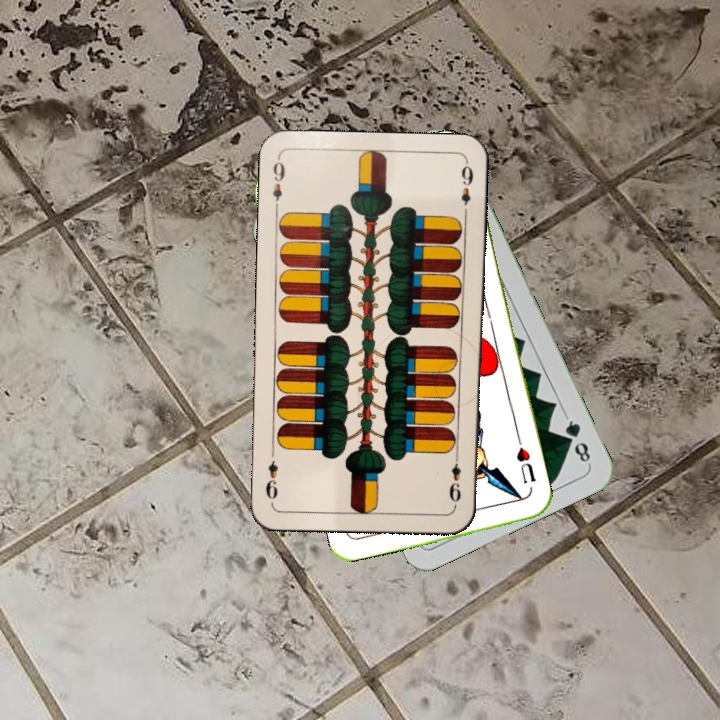E9: (268, 155, 288, 214), (445, 449, 464, 508)
G8: (560, 412, 593, 468)
HU: (512, 443, 538, 487)
